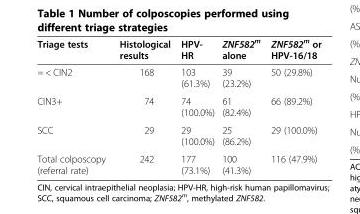table: (36, 36, 320, 175)
table column: (36, 36, 111, 175), (111, 36, 175, 175), (264, 36, 320, 175), (217, 36, 264, 175), (175, 36, 217, 175)
table column header: (36, 36, 320, 63)
table row: (36, 91, 320, 120), (36, 120, 320, 149), (36, 63, 320, 91), (36, 36, 320, 63), (36, 149, 320, 175)
